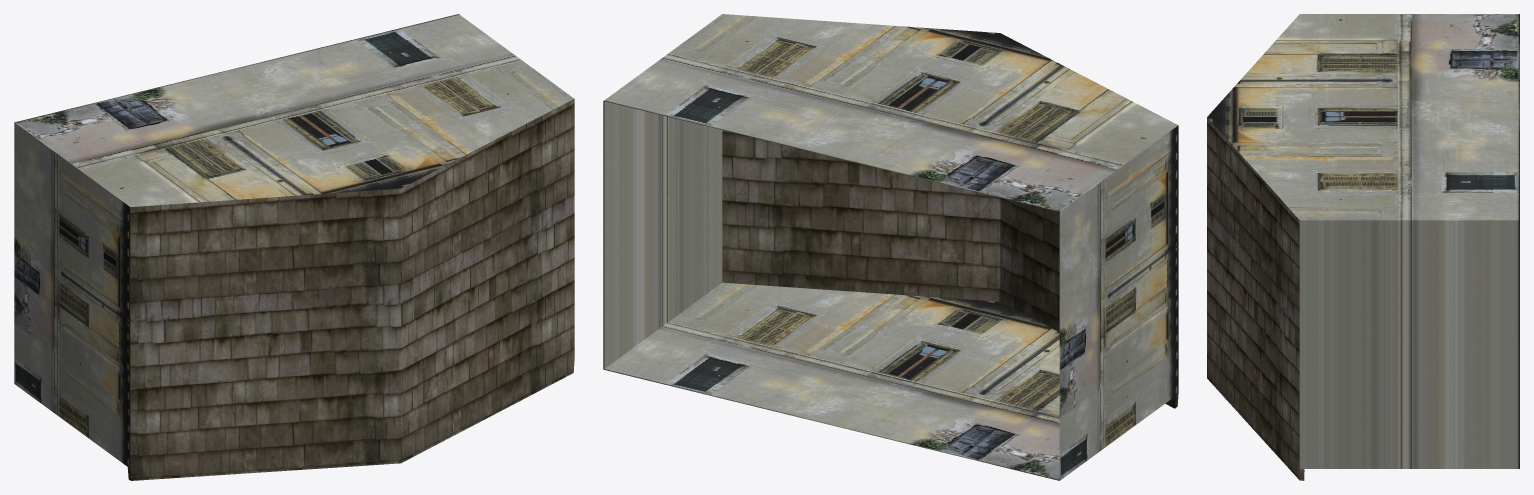
Rendered from houseduchamp17_wtf.obj.
The picture shows the model from 3 angles, left to right: view 1: azimuth 30°, elevation 25°; view 2: azimuth 150°, elevation 25°; view 3: azimuth 270°, elevation 25°; orthographic projection. The views are drawn at different scales.
Parts seen in each view (by area): view 1: group2; view 2: group2; view 3: group2.
Boxes of the visible parts, x1=… form: group2: x1=14, y1=14, x2=574, y2=480; group2: x1=603, y1=14, x2=1178, y2=480; group2: x1=1207, y1=14, x2=1519, y2=480.
Size of the model in its own units: 660 by 391 by 423.
